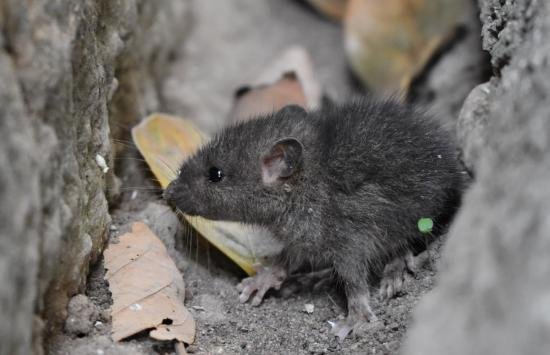rat: (160, 97, 470, 337)
